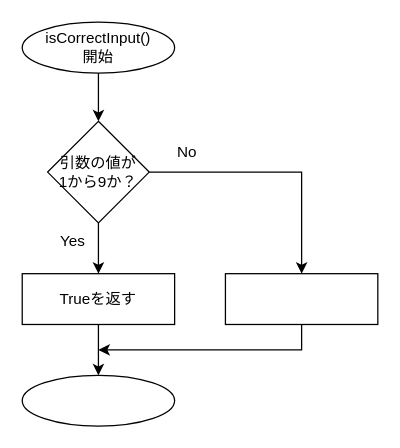
The diagram is 400 pixels wide and 448 high, and some of its shapes have lost their labels. The centre of each missing label's shape, as x and y in pixels:
"Falseを返す" goes at (x=301, y=298).
"isCorrectInput() 終了" goes at (x=98, y=400).
